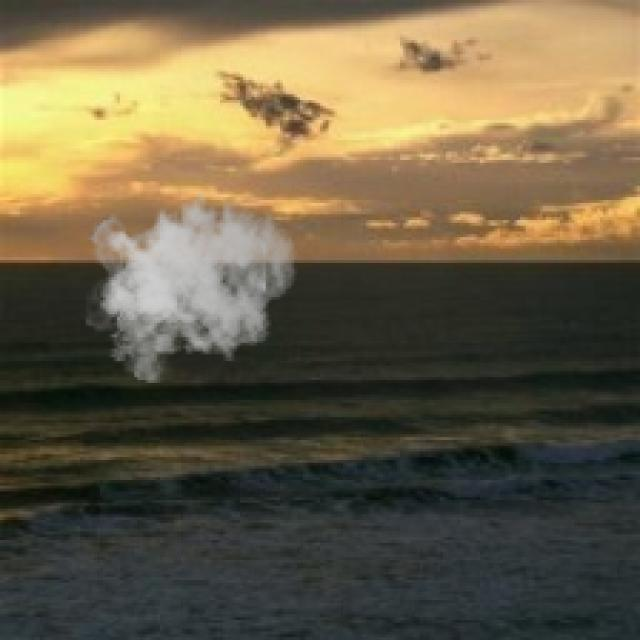smoke: (86, 180, 297, 383)
